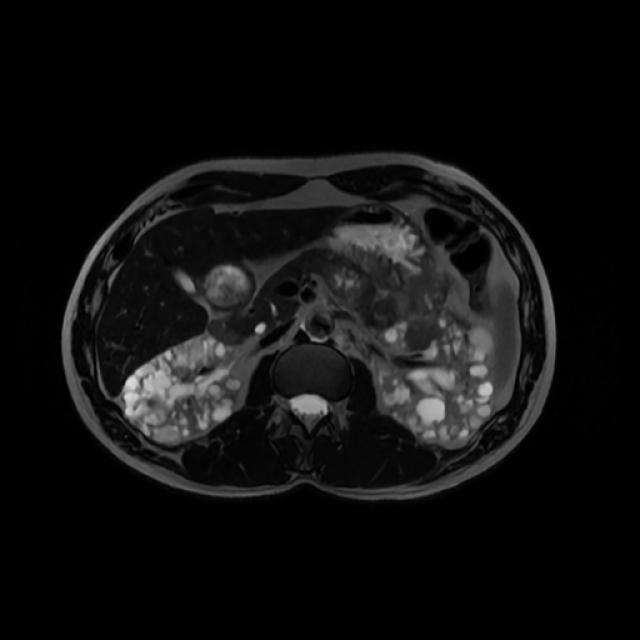sag: (121, 338, 241, 444)
sol: (383, 315, 496, 443)
